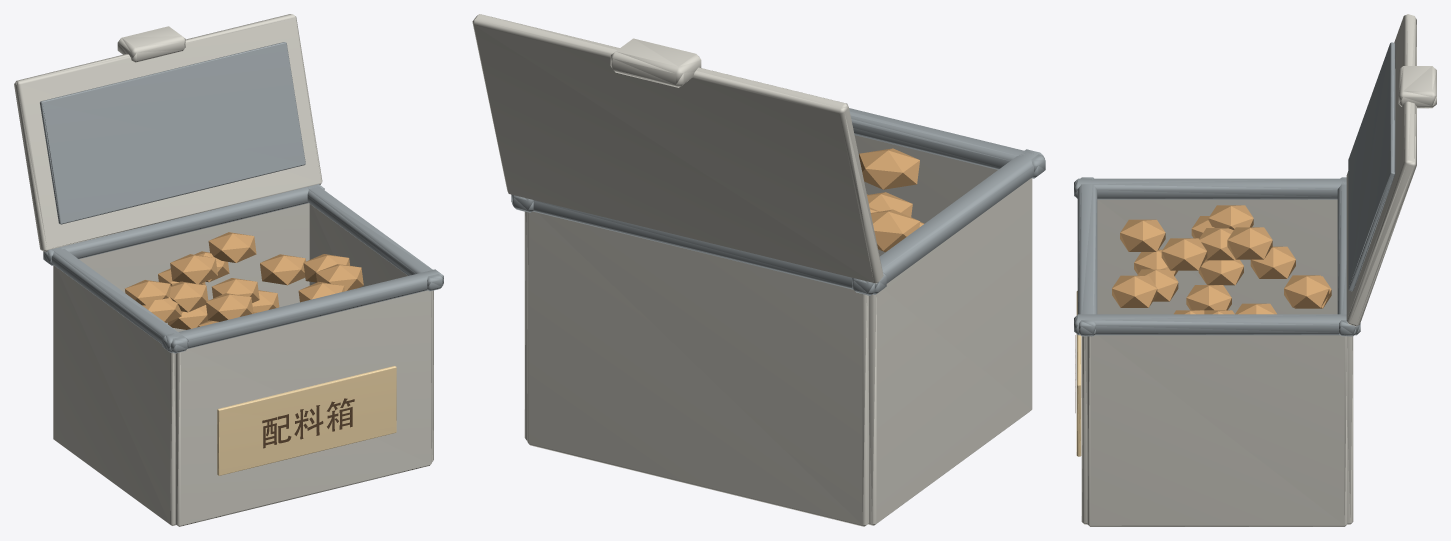
File: topping_bin.fbx
3 views of the same model, side by side, from view 1: azimuth 30°, elevation 25°; view 2: azimuth 150°, elevation 25°; view 3: azimuth 270°, elevation 25° (orthographic). The views are drawn at different scales.
Visible parts, largest first — view 1: topping_bin; view 2: topping_bin; view 3: topping_bin.
Part boxes in pixels (x1,y1,x2,y2): topping_bin: (14,14,443,526); topping_bin: (472,14,1045,526); topping_bin: (1074,14,1436,526).
Size of the model in its own units: 46 by 54.8 by 47.45.
